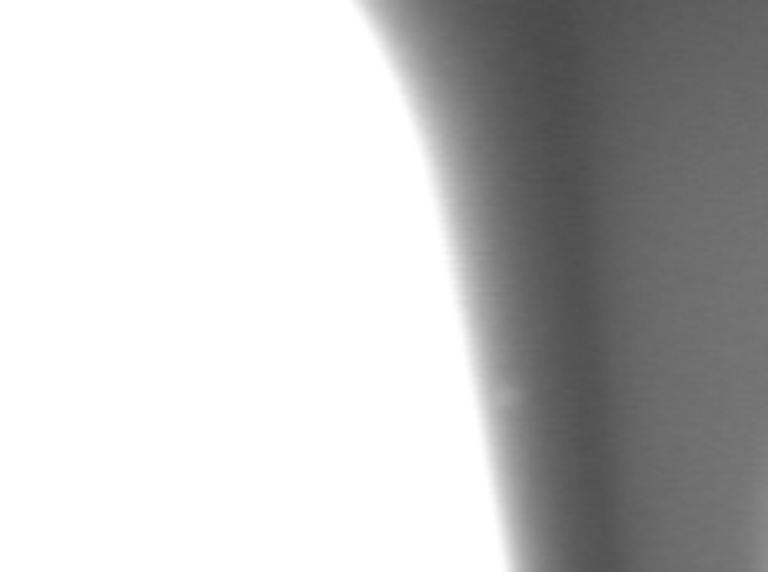defect: (499, 385, 539, 430)
